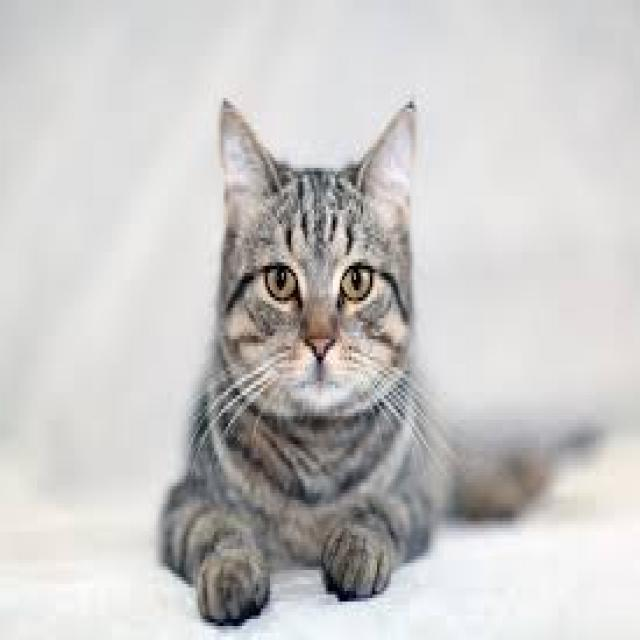Cat: (160, 91, 444, 632)
